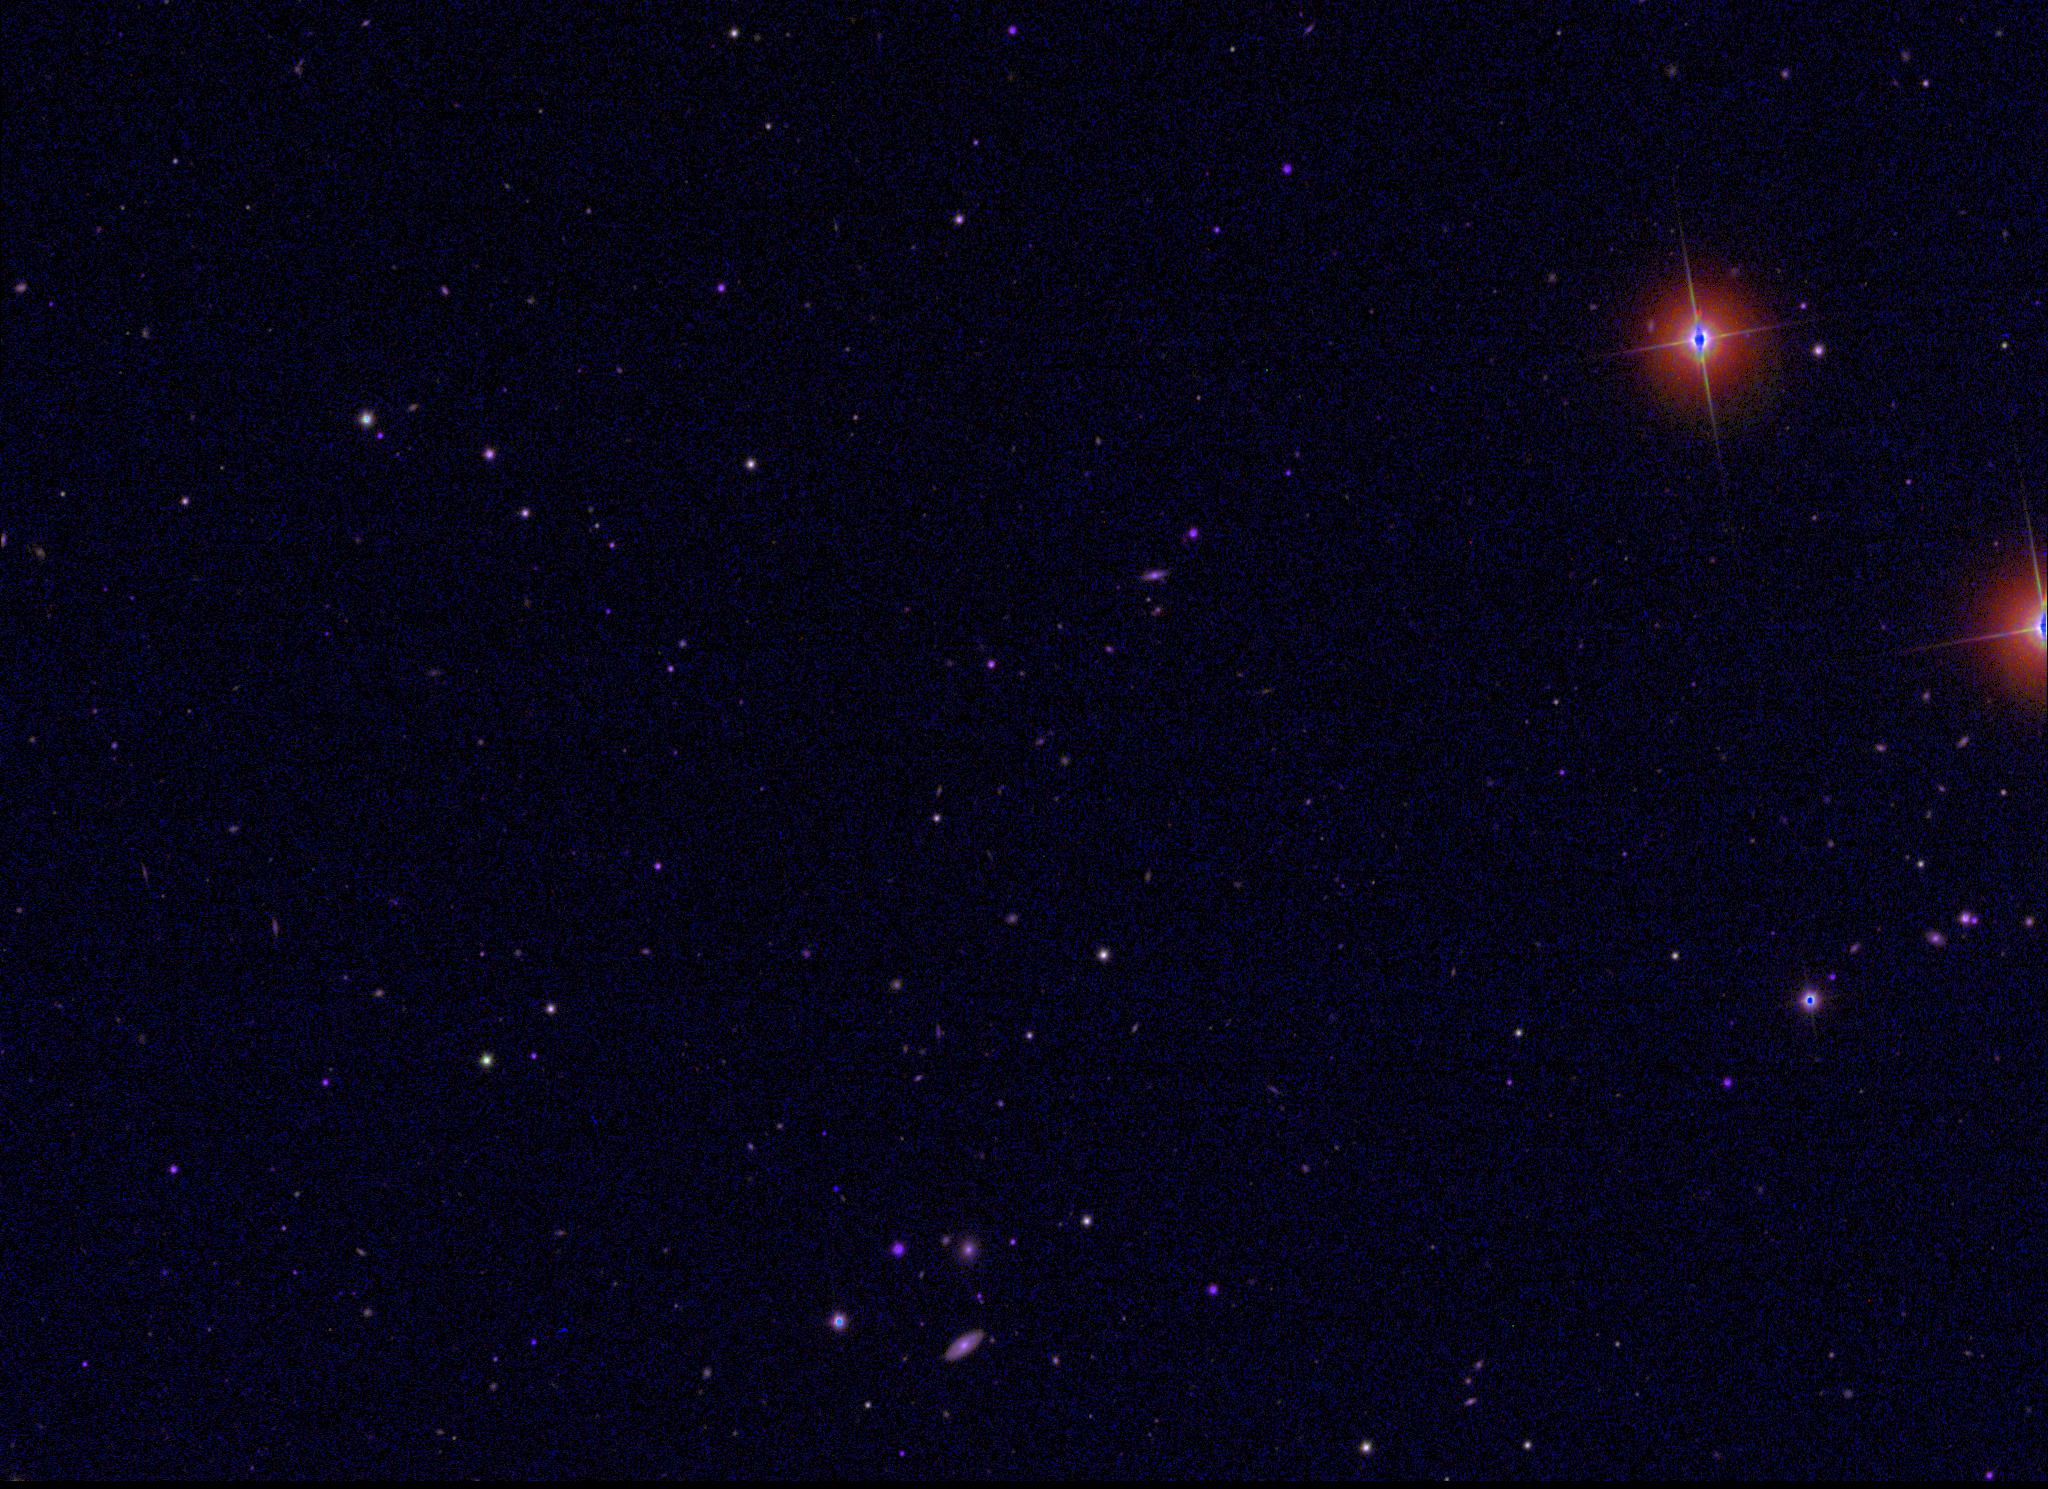L: (828, 1184, 843, 1196)
